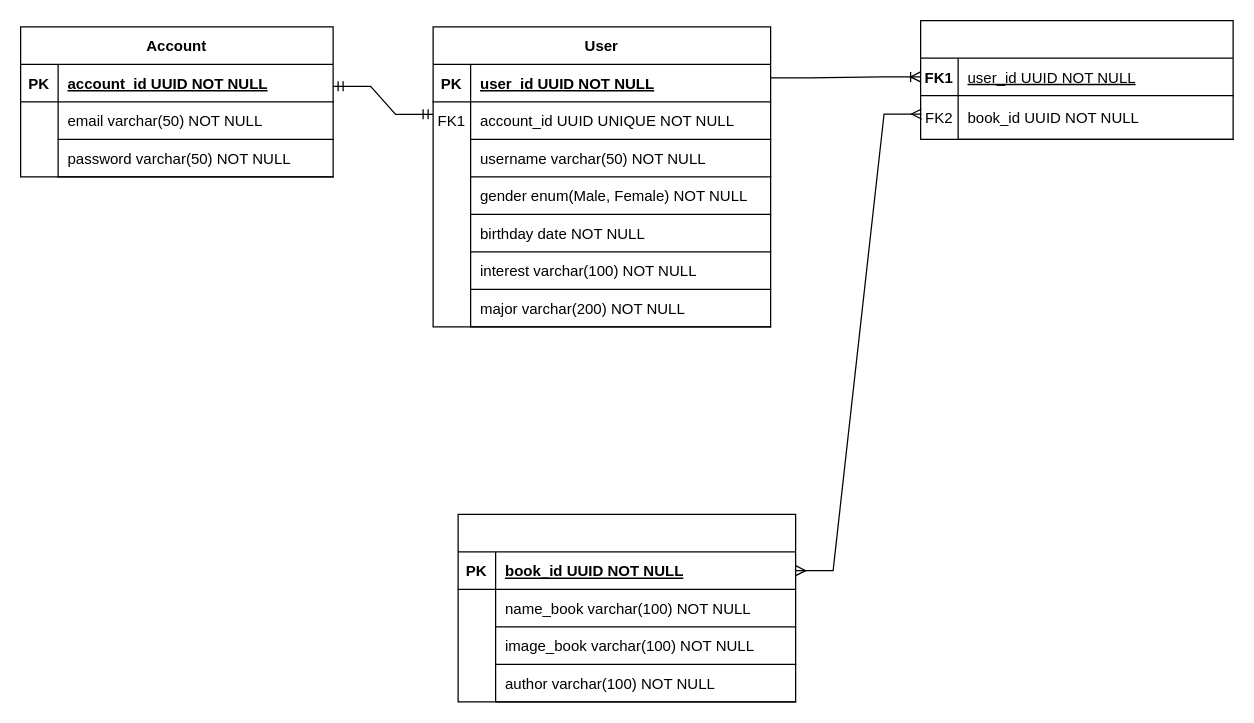
This 1254x723 diagram has some shape labels left out. Here are the shapes that lost their labels. From the top down, the box of each, then its label:
(919, 19, 1233, 139): userBooksSave
(457, 513, 796, 702): Books
